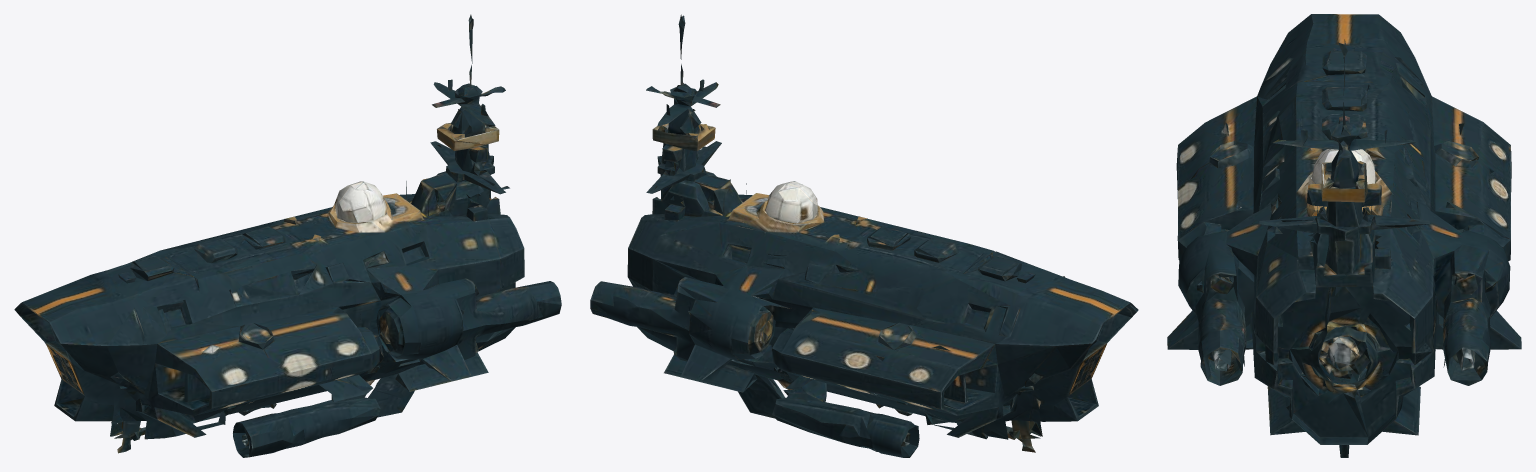
Rendered from nation-w-carrier.glb.
3 views of the same model, side by side, from view 1: azimuth 30°, elevation 25°; view 2: azimuth 150°, elevation 25°; view 3: azimuth 270°, elevation 25° (orthographic). The views are drawn at different scales.
Size of the model in its own units: 1.9 by 1.46 by 1.02.
Materials: 1 (1 with a texture image).
